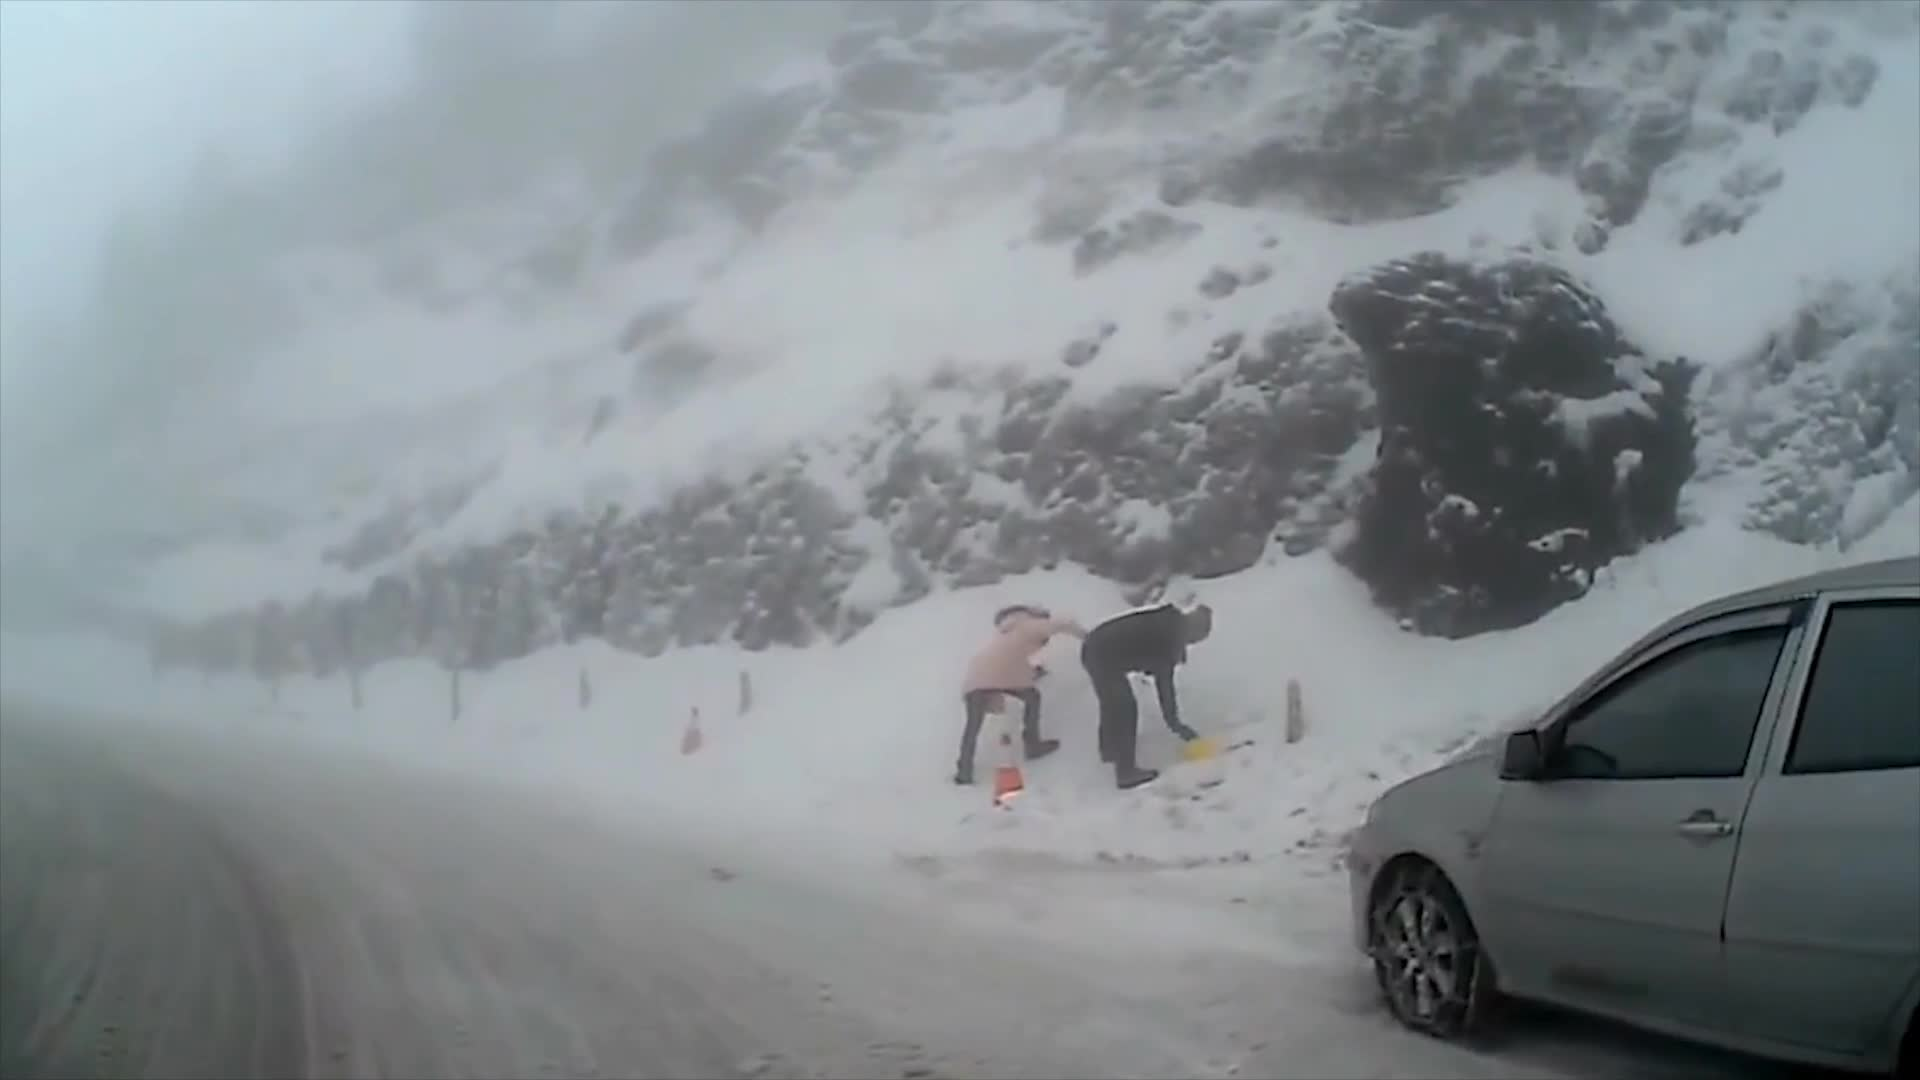pedestrian: (948, 595, 1083, 785), (1078, 605, 1211, 790)
vehicle: (1341, 553, 1920, 1080)
